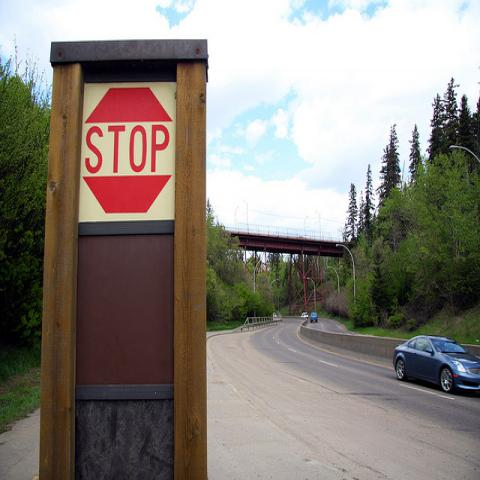car: (390, 333, 479, 392), (310, 312, 317, 323), (300, 312, 309, 319), (272, 312, 279, 320)
